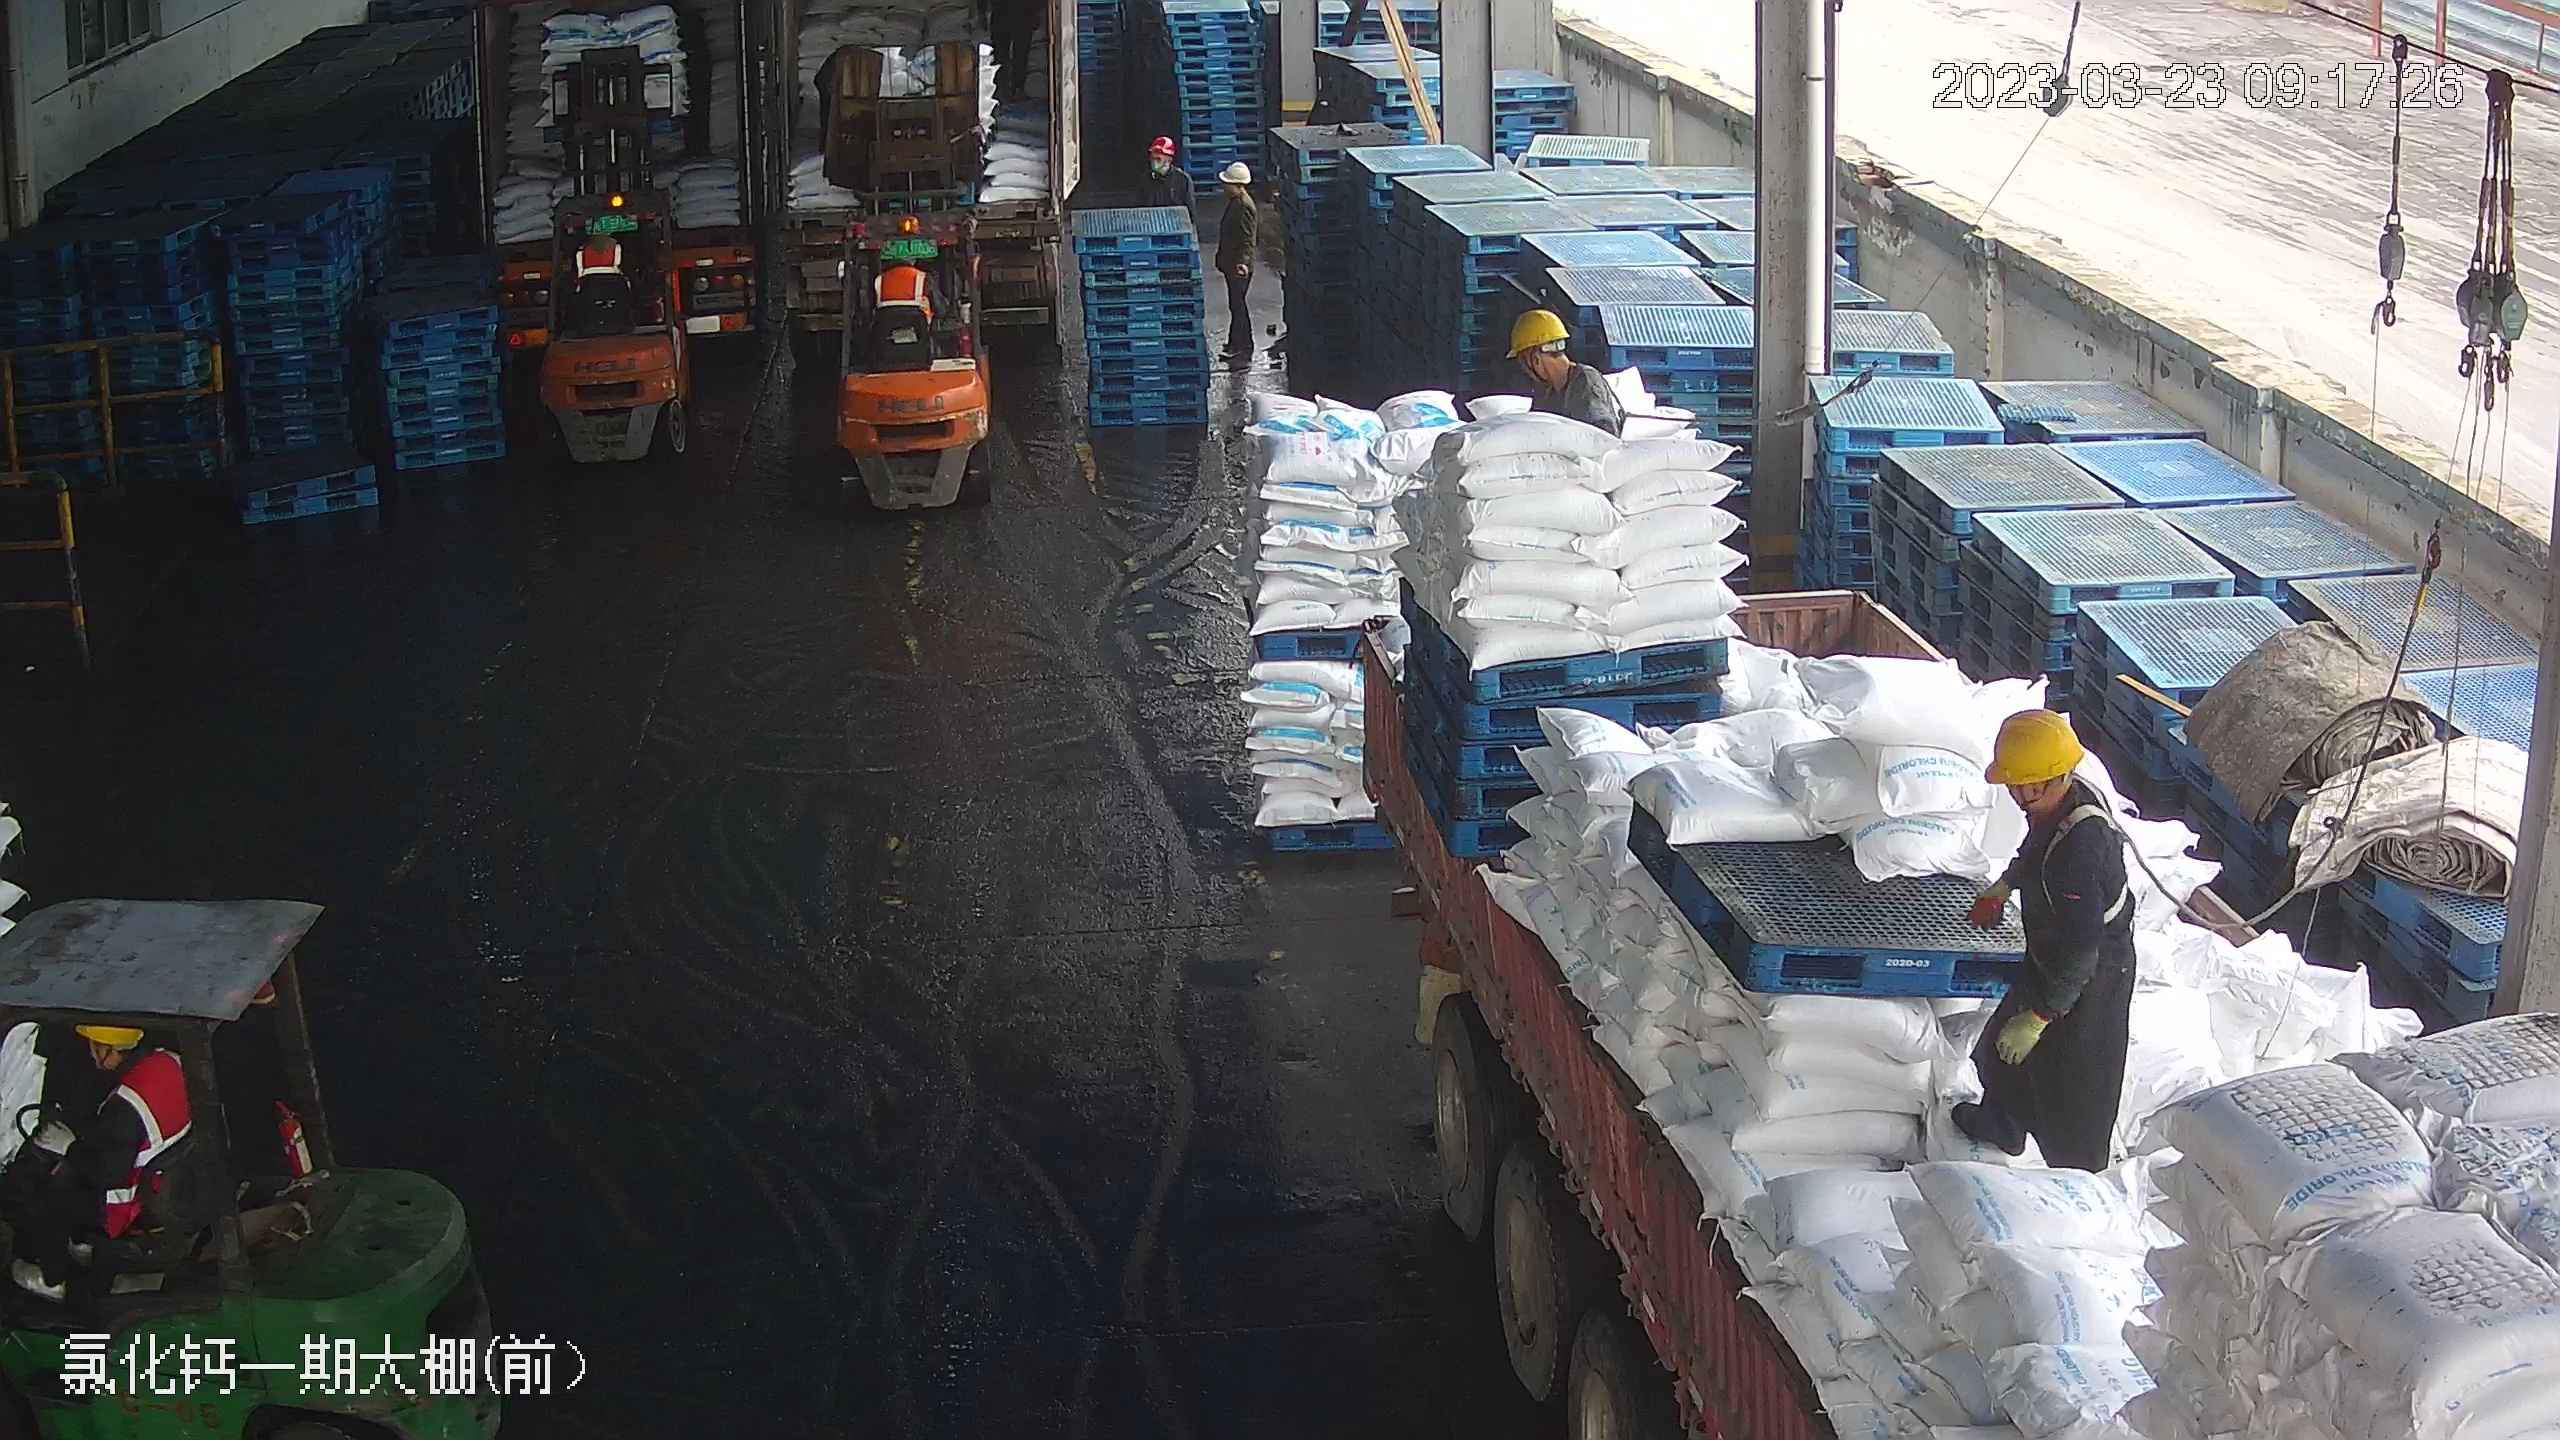belt: (2029, 791, 2149, 915), (1543, 364, 1613, 417)
head: (1981, 705, 2131, 876), (37, 1014, 184, 1146), (1503, 308, 1608, 402), (1138, 134, 1192, 196), (1211, 160, 1260, 218)
helmet: (1980, 705, 2086, 784), (1505, 306, 1568, 353), (1219, 161, 1252, 188), (1146, 132, 1175, 158)
people: (1953, 706, 2141, 1174), (4, 1015, 183, 1294), (1206, 157, 1261, 364)
truck: (1297, 358, 2529, 1433)
